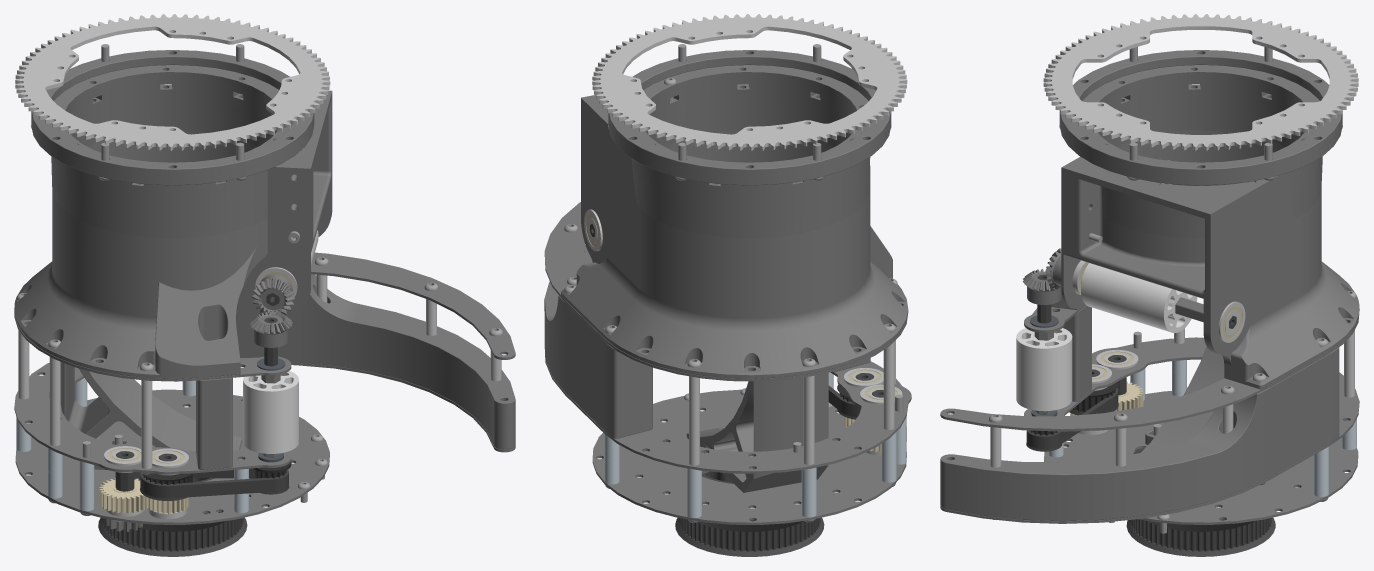
3 views of the same model, side by side, from view 1: azimuth 30°, elevation 25°; view 2: azimuth 150°, elevation 25°; view 3: azimuth 270°, elevation 25° (orthographic).
Visible parts, largest first — view 1: Upright Tube, Part-SpacerPrint-Hock-1, Gear, Dye Upper Plate (×2), Part 22, Part 28, Part 44, Horizontal Roller Support, 1.625" Flex Wheel (30A, 1/2" Wide, 1/2" Hex Stretch Bore) (×4), 66t Custom HTD 5mm Pulley (0.63" Wide, *0.394" Circular Bore, Part-SpacerPrint-Hock-3, Rod-Al-5*8*73 (×3) (+5 smaller); view 2: Upright Tube, Gear, Part 28, Dye Upper Plate (×2), Part 22, Part-SpacerPrint-Hock-1, Part 44, 66t Custom HTD 5mm Pulley (0.63" Wide, *0.394" Circular Bore, Rod-Al-5*8*73 (×3), Bearing-KA070, 3/8" Hex Bore Bearing (1.125" OD, 0.313" WD, Shielded, Flang, 1/2" Rounded Hex (13.75mm) ID Bearing (1.125" OD, 0.313" WD, (+1 smaller); view 3: Upright Tube, Part-SpacerPrint-Hock-1, Gear, Part 22, Dye Upper Plate (×2), 1.625" Flex Wheel (30A, 1/2" Wide, 1/2" Hex Stretch Bore) (×10), Part 28, 66t Custom HTD 5mm Pulley (0.63" Wide, *0.394" Circular Bore, Part 44, Part-SpacerPrint-Hock-3, Horizontal Roller Support, Belt-250- 5M 10mm Wide Belt (+9 smaller).
Boxes of the visible parts, box(x1,y1,x2,y2) form: Upright Tube: box(14, 67, 332, 378); Part-SpacerPrint-Hock-1: box(236, 274, 515, 449); Gear: box(15, 14, 330, 150); Dye Upper Plate (×2): box(14, 252, 515, 474); Part 22: box(31, 50, 314, 185); Part 28: box(15, 389, 329, 524); Part 44: box(60, 362, 242, 469); Horizontal Roller Support: box(242, 166, 310, 316); 1.625" Flex Wheel (30A, 1/2" Wide, 1/2" Hex Stretch Bore) (×4): box(243, 371, 298, 453); 66t Custom HTD 5mm Pulley (0.63" Wide, *0.394" Circular Bore: box(98, 472, 247, 556); Part-SpacerPrint-Hock-3: box(196, 378, 232, 469); Rod-Al-5*8*73 (×3): box(18, 330, 152, 468); Upright Tube: box(561, 67, 908, 378); Gear: box(592, 14, 907, 150); Part 28: box(592, 389, 906, 524); Dye Upper Plate (×2): box(544, 202, 911, 473); Part 22: box(608, 50, 891, 185); Part-SpacerPrint-Hock-1: box(544, 245, 652, 438); Part 44: box(686, 372, 828, 492); 66t Custom HTD 5mm Pulley (0.63" Wide, *0.394" Circular Bore: box(675, 471, 824, 556); Rod-Al-5*8*73 (×3): box(689, 341, 894, 465); Bearing-KA070: box(630, 65, 870, 125); 3/8" Hex Bore Bearing (1.125" OD, 0.313" WD, Shielded, Flang: box(584, 209, 602, 251); 1/2" Rounded Hex (13.75mm) ID Bearing (1.125" OD, 0.313" WD,: box(844, 368, 883, 387); Upright Tube: box(1051, 67, 1359, 389); Part-SpacerPrint-Hock-1: box(940, 347, 1339, 521); Gear: box(1043, 14, 1358, 150); Part 22: box(1059, 50, 1342, 185); Dye Upper Plate (×2): box(940, 306, 1359, 523); 1.625" Flex Wheel (30A, 1/2" Wide, 1/2" Hex Stretch Bore) (×10): box(1016, 263, 1197, 411); Part 28: box(1044, 391, 1358, 524); 66t Custom HTD 5mm Pulley (0.63" Wide, *0.394" Circular Bore: box(1126, 448, 1275, 556); Part 44: box(1141, 346, 1224, 452); Part-SpacerPrint-Hock-3: box(1053, 305, 1091, 401); Horizontal Roller Support: box(1061, 156, 1086, 308); Belt-250- 5M 10mm Wide Belt: box(1026, 388, 1118, 448).
Bounding box in the file's own units: 0.3207 × 0.3615 × 0.3086.
